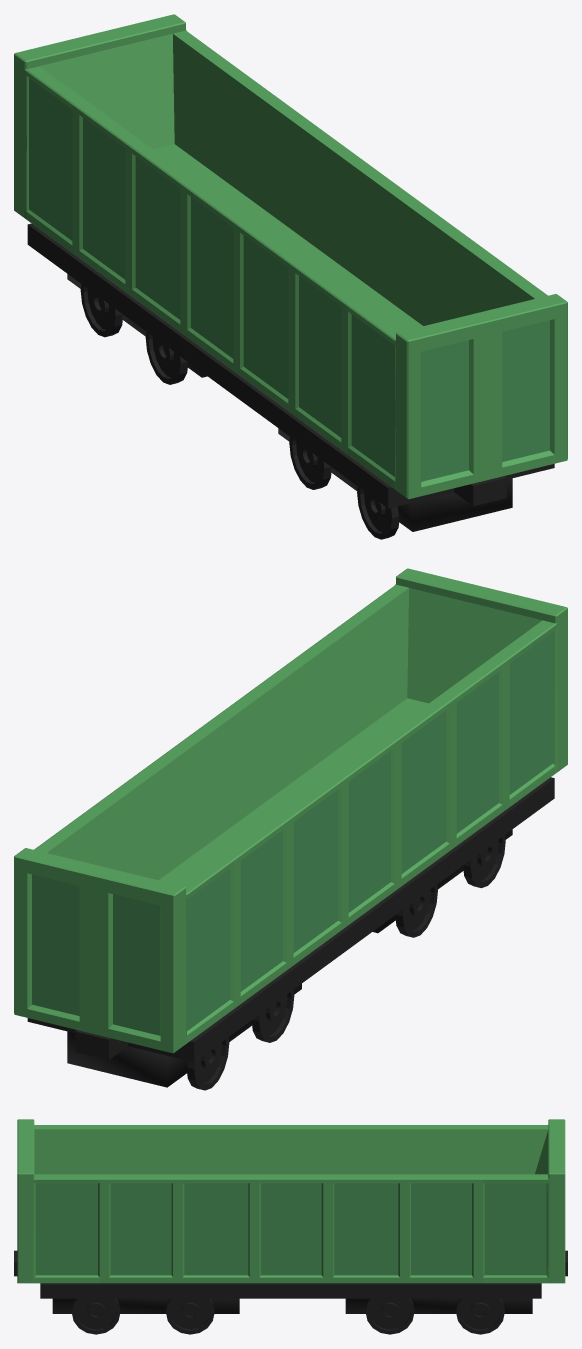
File: cabin_04.fbx
3 views of the same model, one above another, from view 1: azimuth 30°, elevation 25°; view 2: azimuth 150°, elevation 25°; view 3: azimuth 270°, elevation 25° (orthographic). The views are drawn at different scales.
Parts seen in each view (by area): view 1: cabin_04.001; view 2: cabin_04.001; view 3: cabin_04.001.
Boxes of the visible parts, bbox=[...] form: cabin_04.001: bbox=[14, 14, 567, 539]; cabin_04.001: bbox=[14, 568, 567, 1090]; cabin_04.001: bbox=[14, 1119, 567, 1334].
Size of the model in its own units: 192 by 268 by 795.
